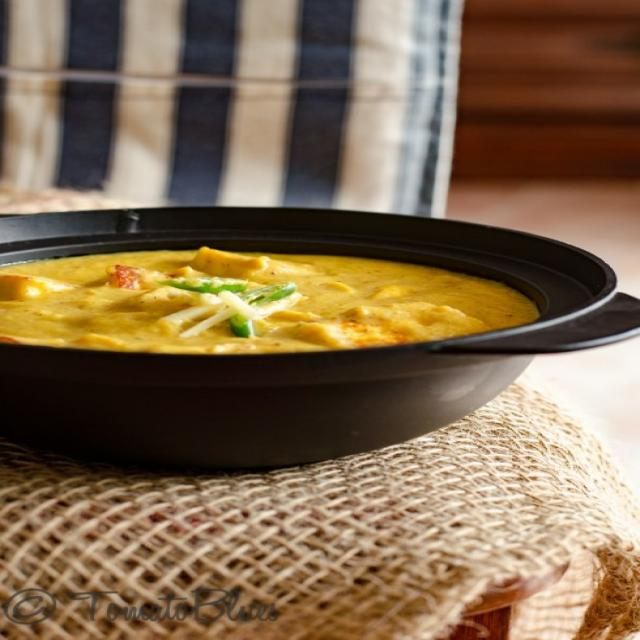ShahiPaneer: (0, 244, 538, 357)
